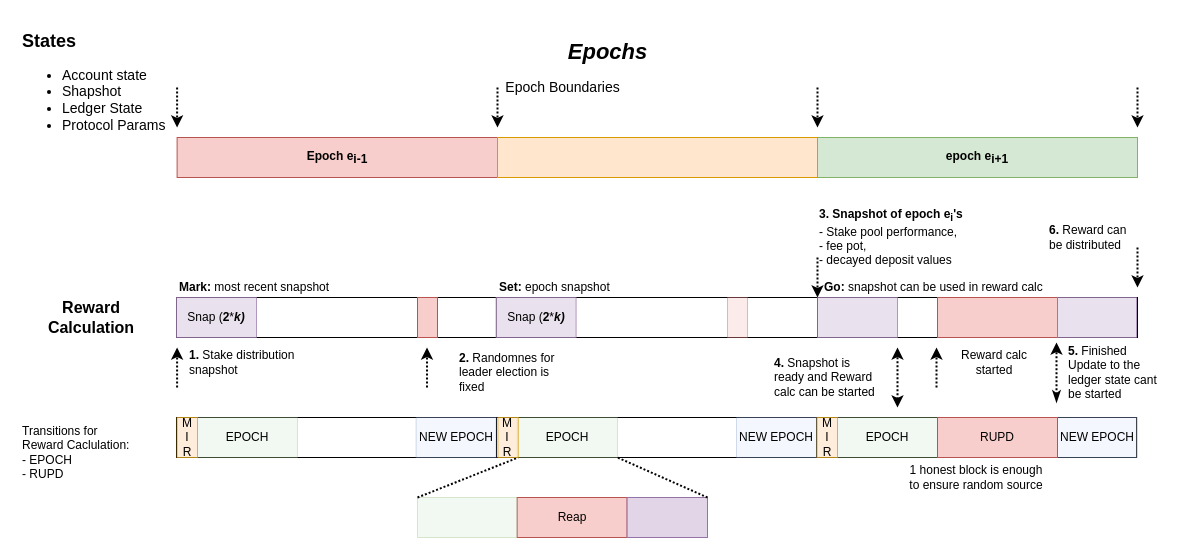
Some shapes in this 1184 by 555 pixel diagram are drawn without their labels. The shapes that lost their labels are listed below. From the top down, each one's centre as x and y in pixels, then its label:
At point 657,157: "epoch e 1".
At point 857,317: "Snap 2 k block".
At point 997,317: "Reward calculation 1 honest block".
At point 1096,317: "2k blocks required".
At point 466,517: "Snap".
At point 667,517: "New pp".
